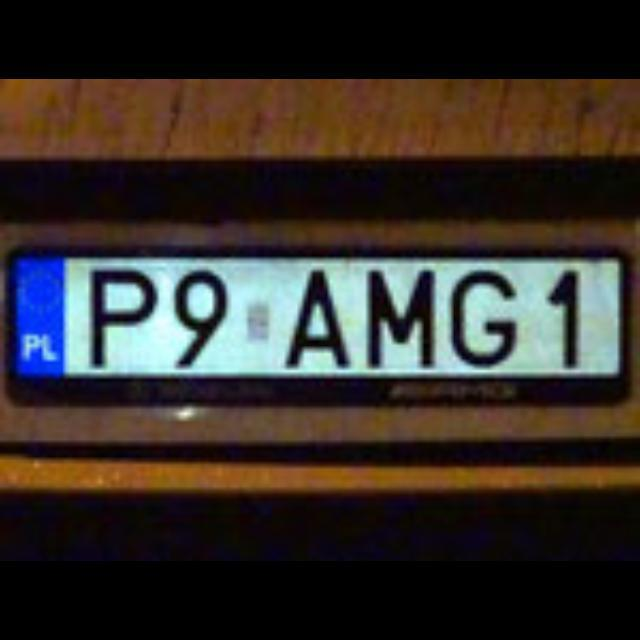license-plates: (9, 251, 629, 404)
